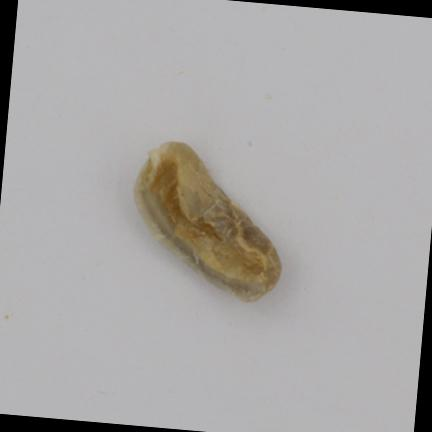shell: (136, 142, 281, 301)
